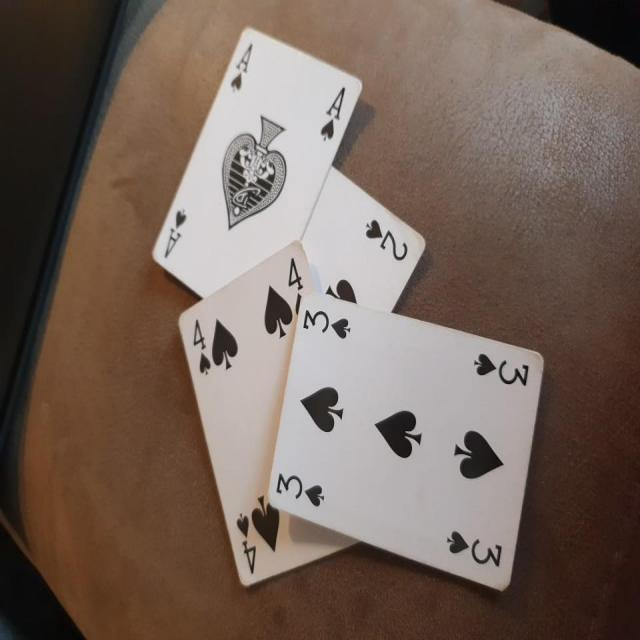2 Spades: (180, 148, 449, 320)
3 Spades: (265, 291, 550, 597)
4 Spades: (172, 243, 334, 638)
A Spades: (137, 14, 361, 304)
